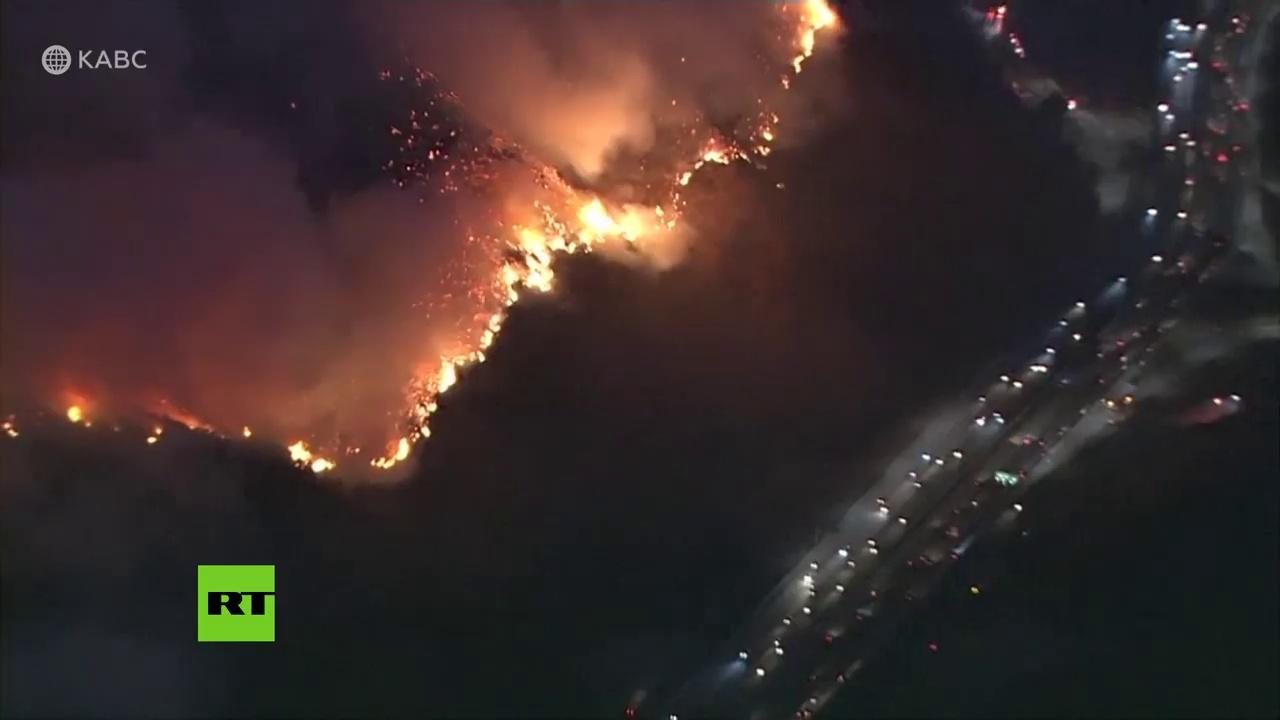Fire: (553, 200, 675, 250), (502, 224, 556, 307), (410, 360, 458, 448), (792, 3, 836, 74), (676, 148, 749, 186), (468, 317, 503, 365), (367, 439, 409, 472), (291, 443, 333, 475), (66, 405, 84, 424)
